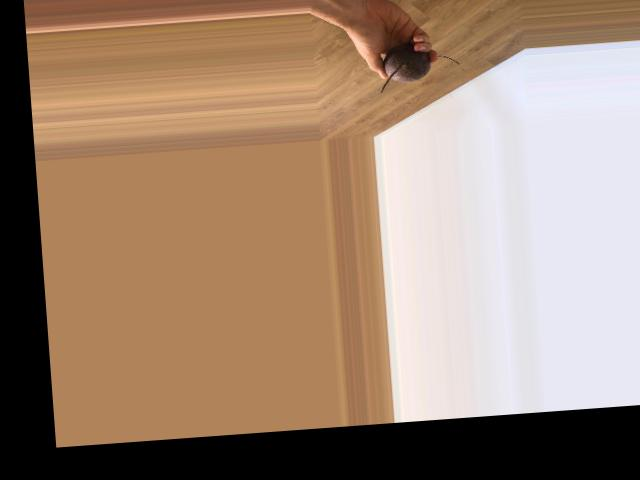beet: (378, 40, 462, 92)
